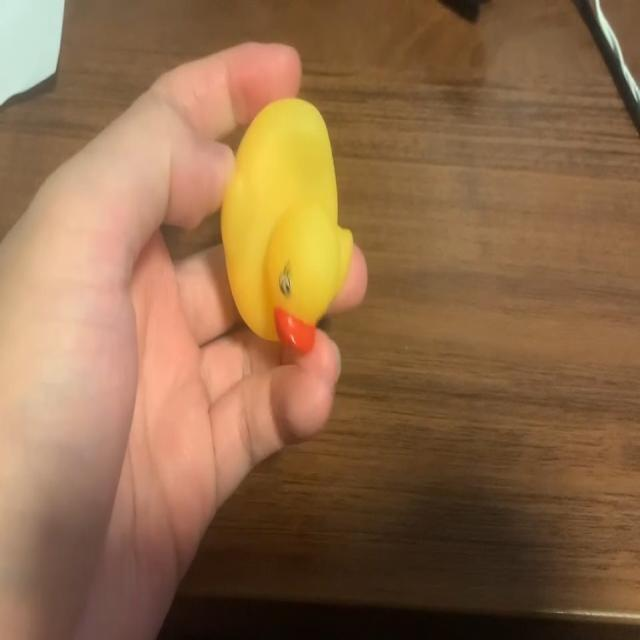rubber-duck: (220, 97, 351, 349)
